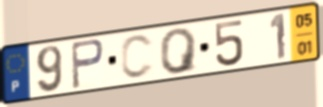1: (268, 11, 288, 63)
5: (213, 18, 246, 68)
9: (34, 43, 67, 94)
C: (119, 33, 156, 81)
P: (69, 37, 107, 91)
Q: (158, 26, 200, 76)
